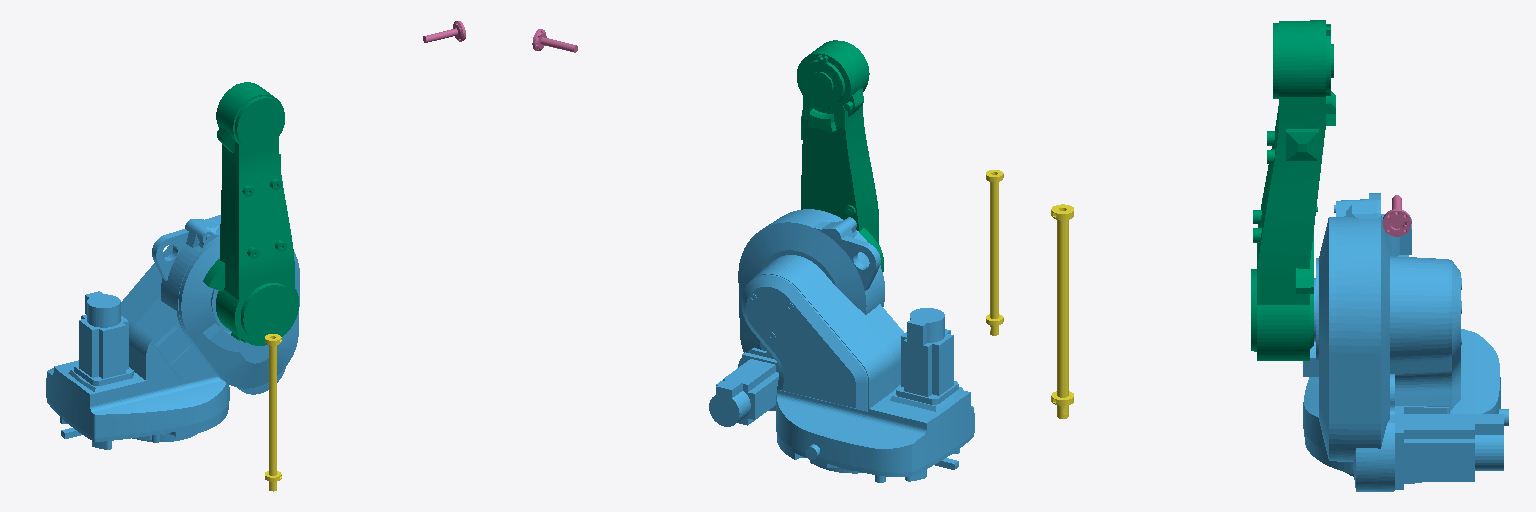
robot.urdf — IRB1600_X_120:
<?xml version="1.0" ?>
<robot name="IRB1600_X_120">

<link name="base_link">
  <inertial>
    <origin xyz="-0.10037239619653902 0.0004079362997209091 0.061611891477154054" rpy="0 0 0"/>
    <mass value="226.62768033832174"/>
    <inertia ixx="3.833621" iyy="6.601907" izz="9.835377" ixy="0.010407" iyz="-0.007381" ixz="0.31651"/>
  </inertial>
  <visual>
    <origin xyz="0 0 0" rpy="0 0 0"/>
    <geometry>
      <mesh filename="meshes/base_link.stl" scale="0.001 0.001 0.001"/>
    </geometry>
  </visual>
  <collision>
    <origin xyz="0 0 0" rpy="0 0 0"/>
    <geometry>
      <mesh filename="meshes/base_link.stl" scale="0.001 0.001 0.001"/>
    </geometry>
  </collision>
</link>

<link name="link1_1">
  <inertial>
    <origin xyz="0.05223215738127042 -0.011781248830547781 0.2125819355540075" rpy="0 0 0"/>
    <mass value="314.1495566081902"/>
    <inertia ixx="6.694162" iyy="10.79559" izz="7.561537" ixy="0.515083" iyz="0.749746" ixz="-2.11661"/>
  </inertial>
  <visual>
    <origin xyz="0.0 0.0 -0.1315" rpy="0 0 0"/>
    <geometry>
      <mesh filename="meshes/link1_1.stl" scale="0.001 0.001 0.001"/>
    </geometry>
  </visual>
  <collision>
    <origin xyz="0.0 0.0 -0.1315" rpy="0 0 0"/>
    <geometry>
      <mesh filename="meshes/link1_1.stl" scale="0.001 0.001 0.001"/>
    </geometry>
  </collision>
</link>

<link name="link2_1">
  <inertial>
    <origin xyz="-0.0004194042901012607 -0.0398145633691083 0.2028516454368195" rpy="0 0 0"/>
    <mass value="62.55263861048576"/>
    <inertia ixx="2.105528" iyy="2.149398" izz="0.162817" ixy="0.000718" iyz="-0.148874" ixz="-0.003211"/>
  </inertial>
  <visual>
    <origin xyz="-0.15 0.143 -0.4865" rpy="0 0 0"/>
    <geometry>
      <mesh filename="meshes/link2_1.stl" scale="0.001 0.001 0.001"/>
    </geometry>
  </visual>
  <collision>
    <origin xyz="-0.15 0.143 -0.4865" rpy="0 0 0"/>
    <geometry>
      <mesh filename="meshes/link2_1.stl" scale="0.001 0.001 0.001"/>
    </geometry>
  </collision>
</link>

<link name="link3_1">
  <inertial>
    <origin xyz="0.022196121358280085 0.13360814939140056 -0.013547814535413982" rpy="0 0 0"/>
    <mass value="129.07256427136392"/>
    <inertia ixx="0.906367" iyy="2.085642" izz="2.103054" ixy="0.05794" iyz="0.068617" ixz="-0.01511"/>
  </inertial>
  <visual>
    <origin xyz="-0.15 0.115 -0.9615" rpy="0 0 0"/>
    <geometry>
      <mesh filename="meshes/link3_1.stl" scale="0.001 0.001 0.001"/>
    </geometry>
  </visual>
  <collision>
    <origin xyz="-0.15 0.115 -0.9615" rpy="0 0 0"/>
    <geometry>
      <mesh filename="meshes/link3_1.stl" scale="0.001 0.001 0.001"/>
    </geometry>
  </collision>
</link>

<link name="link4_1">
  <inertial>
    <origin xyz="0.1650333363269318 -0.0008953243070983773 -0.0009008860395685048" rpy="0 0 0"/>
    <mass value="22.82263512327022"/>
    <inertia ixx="0.039204" iyy="0.21197" izz="0.220347" ixy="0.002905" iyz="1.6e-05" ixz="0.000601"/>
  </inertial>
  <visual>
    <origin xyz="-0.464 -2e-06 -0.9615" rpy="0 0 0"/>
    <geometry>
      <mesh filename="meshes/link4_1.stl" scale="0.001 0.001 0.001"/>
    </geometry>
  </visual>
  <collision>
    <origin xyz="-0.464 -2e-06 -0.9615" rpy="0 0 0"/>
    <geometry>
      <mesh filename="meshes/link4_1.stl" scale="0.001 0.001 0.001"/>
    </geometry>
  </collision>
</link>

<link name="link5_1">
  <inertial>
    <origin xyz="-0.00025339622134756823 0.024508539407587723 -0.0001511404297962482" rpy="0 0 0"/>
    <mass value="1.5097987445956202"/>
    <inertia ixx="0.001004" iyy="0.001255" izz="0.000837" ixy="-0.0" iyz="2e-06" ixz="2e-06"/>
  </inertial>
  <visual>
    <origin xyz="-0.75 0.024798 -0.9615" rpy="0 0 0"/>
    <geometry>
      <mesh filename="meshes/link5_1.stl" scale="0.001 0.001 0.001"/>
    </geometry>
  </visual>
  <collision>
    <origin xyz="-0.75 0.024798 -0.9615" rpy="0 0 0"/>
    <geometry>
      <mesh filename="meshes/link5_1.stl" scale="0.001 0.001 0.001"/>
    </geometry>
  </collision>
</link>

<link name="link6_1">
  <inertial>
    <origin xyz="0.06490111065994819 -3.42756711612029e-05 -0.0001624330146818842" rpy="0 0 0"/>
    <mass value="0.27547199791088767"/>
    <inertia ixx="4.5e-05" iyy="0.000284" izz="0.000284" ixy="0.0" iyz="0.0" ixz="1e-06"/>
  </inertial>
  <visual>
    <origin xyz="-0.717001 0.000298 -0.9615" rpy="0 0 0"/>
    <geometry>
      <mesh filename="meshes/link6_1.stl" scale="0.001 0.001 0.001"/>
    </geometry>
  </visual>
  <collision>
    <origin xyz="-0.717001 0.000298 -0.9615" rpy="0 0 0"/>
    <geometry>
      <mesh filename="meshes/link6_1.stl" scale="0.001 0.001 0.001"/>
    </geometry>
  </collision>
</link>

<joint name="Revolute_1" type="continuous">
  <origin xyz="0.0 0.0 0.1315" rpy="0 0 0"/>
  <parent link="base_link"/>
  <child link="link1_1"/>
  <axis xyz="0.0 0.0 -1.0"/>
</joint>

<joint name="Revolute_2" type="continuous">
  <origin xyz="0.15 -0.143 0.355" rpy="0 0 0"/>
  <parent link="link1_1"/>
  <child link="link2_1"/>
  <axis xyz="0.0 1.0 0.0"/>
</joint>

<joint name="Revolute_3" type="continuous">
  <origin xyz="0.0 0.028 0.475" rpy="0 0 0"/>
  <parent link="link2_1"/>
  <child link="link3_1"/>
  <axis xyz="-0.0 1.0 0.0"/>
</joint>

<joint name="Revolute_4" type="continuous">
  <origin xyz="0.314 0.115002 0.0" rpy="0 0 0"/>
  <parent link="link3_1"/>
  <child link="link4_1"/>
  <axis xyz="1.0 0.0 0.0"/>
</joint>

<joint name="Revolute_5" type="continuous">
  <origin xyz="0.286 -0.0248 0.0" rpy="0 0 0"/>
  <parent link="link4_1"/>
  <child link="link5_1"/>
  <axis xyz="0.0 -1.0 0.0"/>
</joint>

<joint name="Revolute_6" type="continuous">
  <origin xyz="-0.032999 0.0245 0.0" rpy="0 0 0"/>
  <parent link="link5_1"/>
  <child link="link6_1"/>
  <axis xyz="-1.0 0.0 0.0"/>
</joint>

</robot>

--- Facts derived from the render (not from the file) ---
3 views of the same robot in one strip: view 1: azimuth 30°, elevation 25°; view 2: azimuth 150°, elevation 25°; view 3: azimuth 270°, elevation 25° (orthographic).
Model IRB1600_X_120 with 7 links and 6 joints (6 continuous), rooted at base_link, posed all joints at 0.
Links seen in each view (by area): view 1: link1_1, link2_1, link3_1; view 2: link1_1, link2_1, link3_1; view 3: link1_1, link2_1, link3_1, link6_1.
Link boxes in pixels (box(x1,y1,x2,y2)): link1_1: box(46, 215, 299, 449); link2_1: box(203, 82, 298, 345); link3_1: box(265, 334, 281, 491); link1_1: box(709, 209, 974, 482); link2_1: box(797, 40, 883, 271); link3_1: box(986, 170, 1003, 335); link1_1: box(1303, 193, 1508, 491); link2_1: box(1251, 20, 1335, 360); link3_1: box(1051, 204, 1073, 418); link6_1: box(1383, 195, 1411, 236).
Size in the robot's own frame: 1.08 by 0.7899 by 0.9069 metres.
Meshes: 7 distinct files referenced, 4 mesh visuals loaded (4 binary STL); not drawn: 3 (reference not matched to a file when rendering).